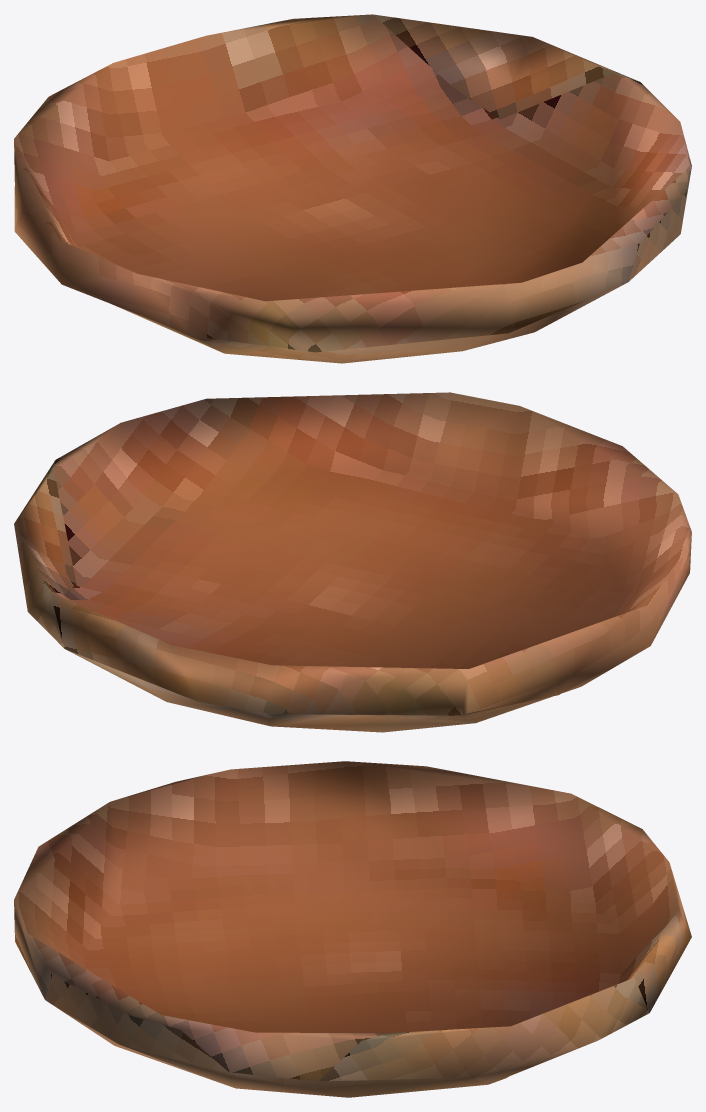
The model's file is Cole_Hardware_Plant_Saucer_Glazed_9-low.glb.
3 views of the same model, one above another, from view 1: azimuth 30°, elevation 25°; view 2: azimuth 150°, elevation 25°; view 3: azimuth 270°, elevation 25° (orthographic).
Visible parts, largest first — view 1: Cole_Hardware_Plant_Saucer_Glazed_9; view 2: Cole_Hardware_Plant_Saucer_Glazed_9; view 3: Cole_Hardware_Plant_Saucer_Glazed_9.
Boxes of the visible parts, x1,y1,x2,y2 form: Cole_Hardware_Plant_Saucer_Glazed_9: (14, 14, 691, 363); Cole_Hardware_Plant_Saucer_Glazed_9: (14, 392, 691, 732); Cole_Hardware_Plant_Saucer_Glazed_9: (14, 761, 691, 1097).
Bounding box in the file's own units: 0.2278 × 0.0353 × 0.2273.
1 material, 1 textured.
